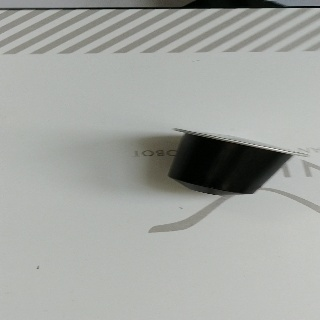capsule_10: (167, 127, 309, 196)
